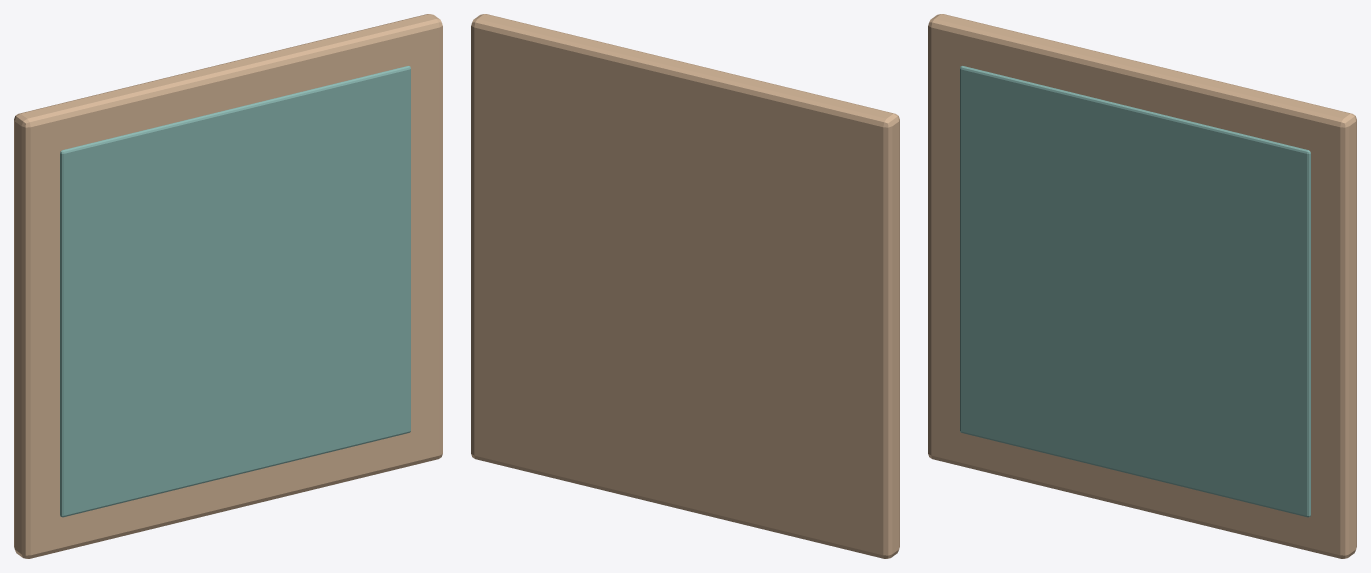
Rendered from children_picture_04.glb.
The picture shows the model from 3 angles, left to right: view 1: azimuth 30°, elevation 25°; view 2: azimuth 150°, elevation 25°; view 3: azimuth 330°, elevation 25°; orthographic projection.
Visible parts, largest first — view 1: Tint.003, Frame.003; view 2: Frame.003; view 3: Tint.003, Frame.003.
Part boxes in pixels (box(x1,y1,x2,y2)): Tint.003: box(60, 66, 410, 517); Frame.003: box(14, 14, 442, 558); Frame.003: box(471, 14, 899, 558); Tint.003: box(960, 66, 1310, 517); Frame.003: box(928, 14, 1356, 558).
Bounding box in the file's own units: 0.72 × 0.72 × 0.045.
